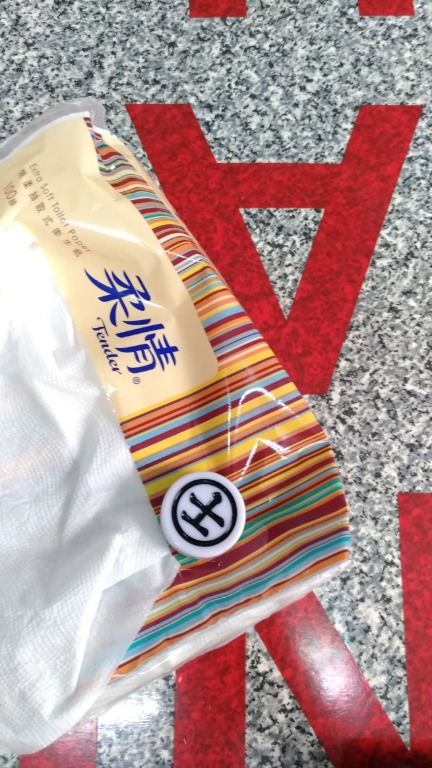b-advisor: (133, 458, 280, 579)
